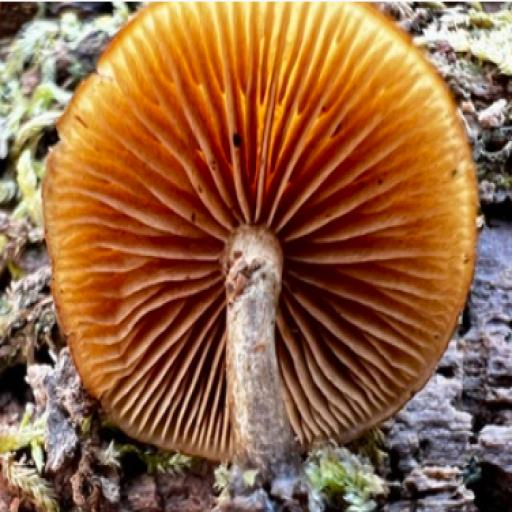Funeral Bell: (44, 0, 476, 510)
